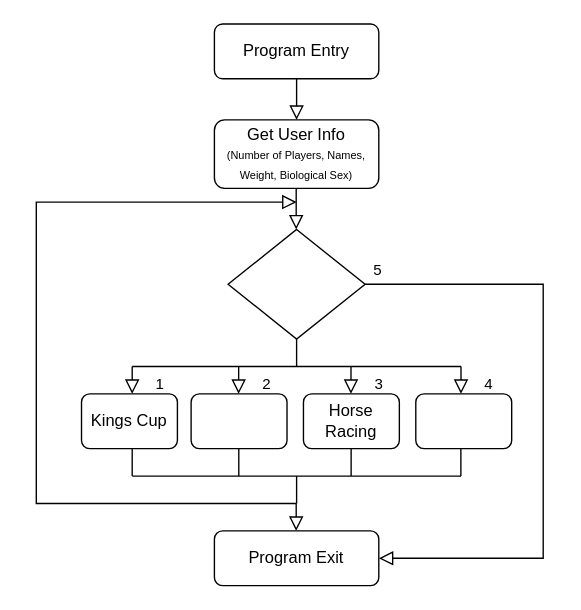
This 581x610 diagram has some shape labels left out. Here are the shapes that lost their labels. From the top down, the centre of each, then its label:
At point (296, 283): "Select Game".
At point (238, 421): "Trivia".
At point (463, 421): "Ride the Bus".
